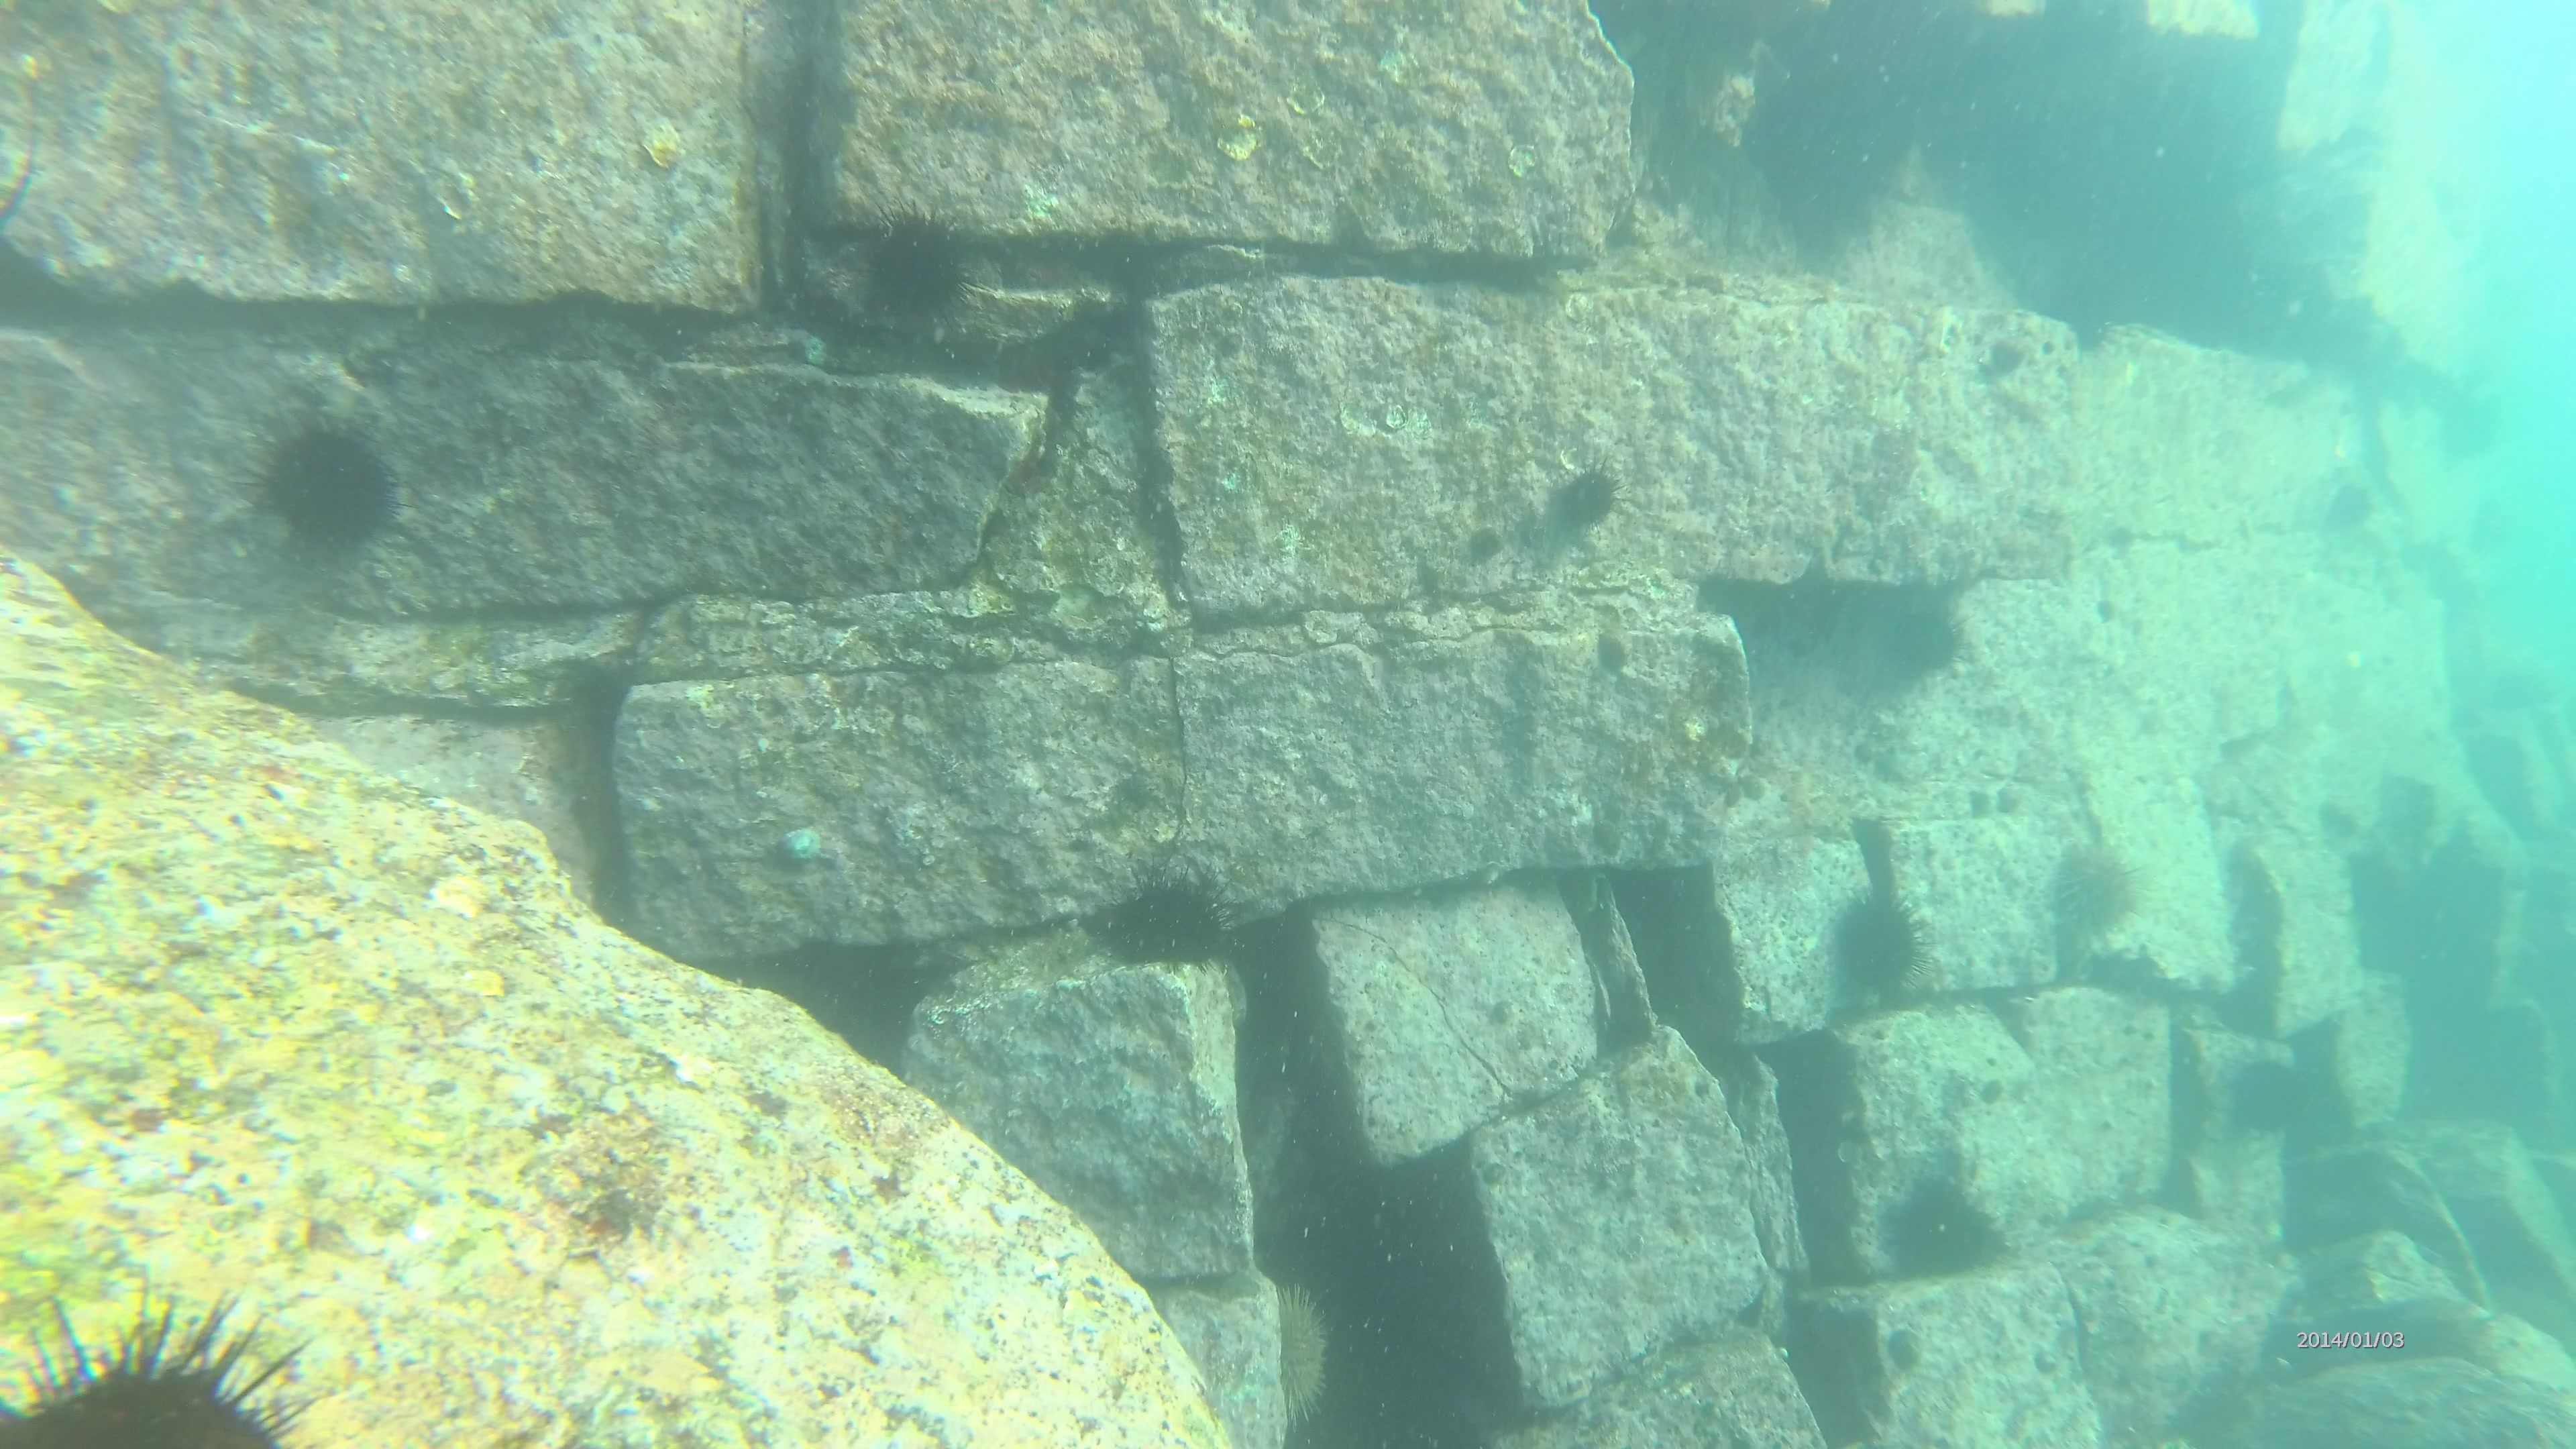echinus: (0, 1279, 326, 1449), (223, 409, 409, 554), (847, 200, 984, 343), (1085, 853, 1247, 968), (1261, 1277, 1352, 1442), (1888, 1169, 2013, 1281), (2045, 837, 2155, 957), (1833, 878, 1941, 996), (2222, 1046, 2318, 1141), (1559, 455, 1638, 541), (2328, 471, 2381, 536)
